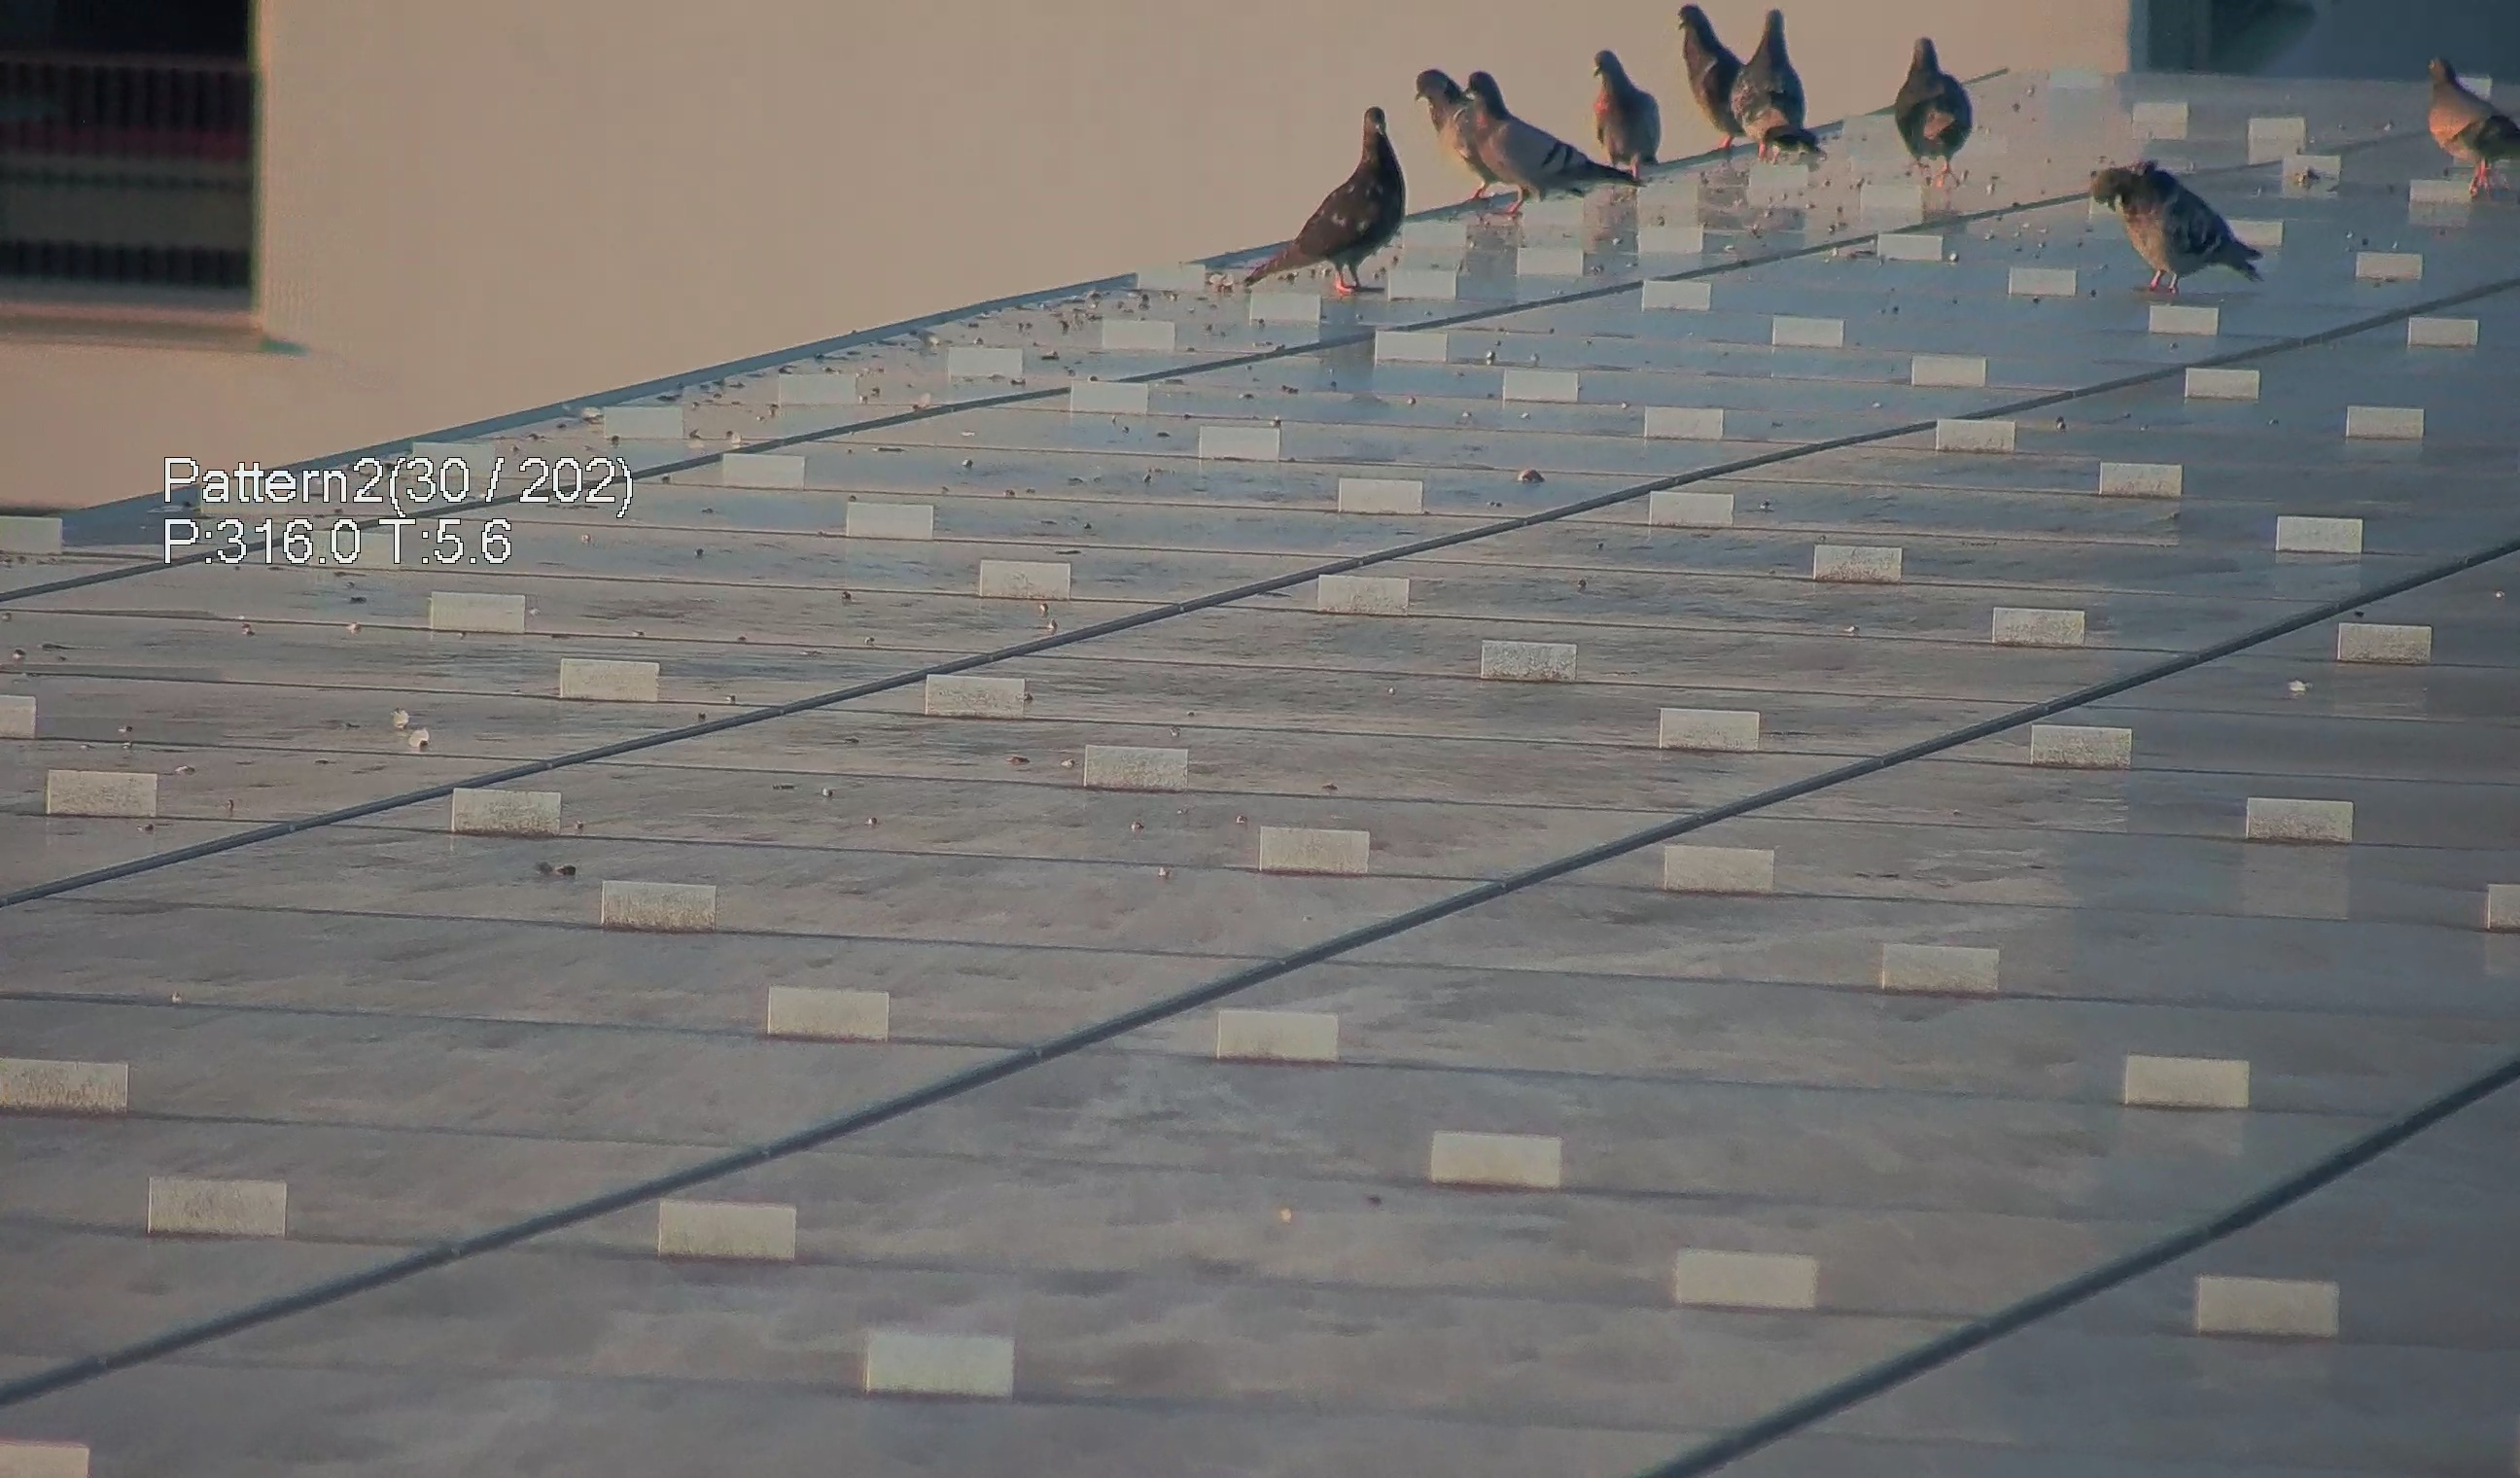Pigeon: (1219, 95, 1419, 294), (1409, 56, 1637, 209), (2089, 137, 2295, 299), (1671, 0, 1808, 150), (1883, 26, 2007, 187), (2422, 44, 2520, 194), (1583, 30, 1674, 169)
